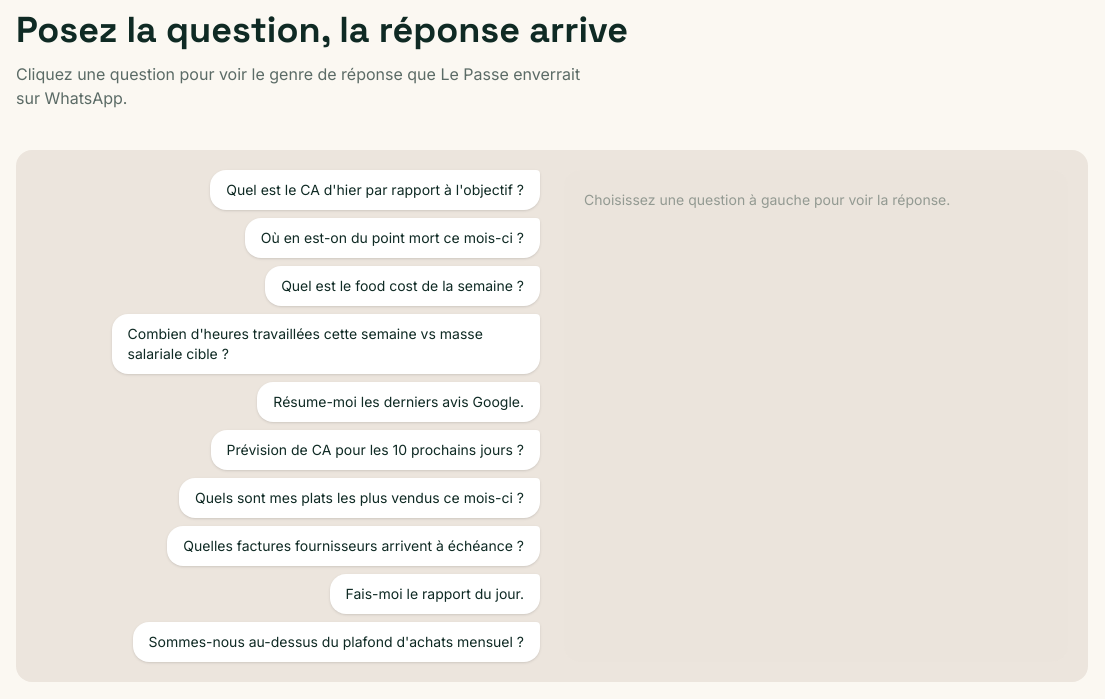
ChatExamples (T-4.4) › shows only one active answer at a time
What coordinates should you click on to do the following:
click the button "Quel est le CA d'hier par rapport à l'objectif ?"
I would click on:
 (375, 190)
Its box is [210, 170, 540, 210].
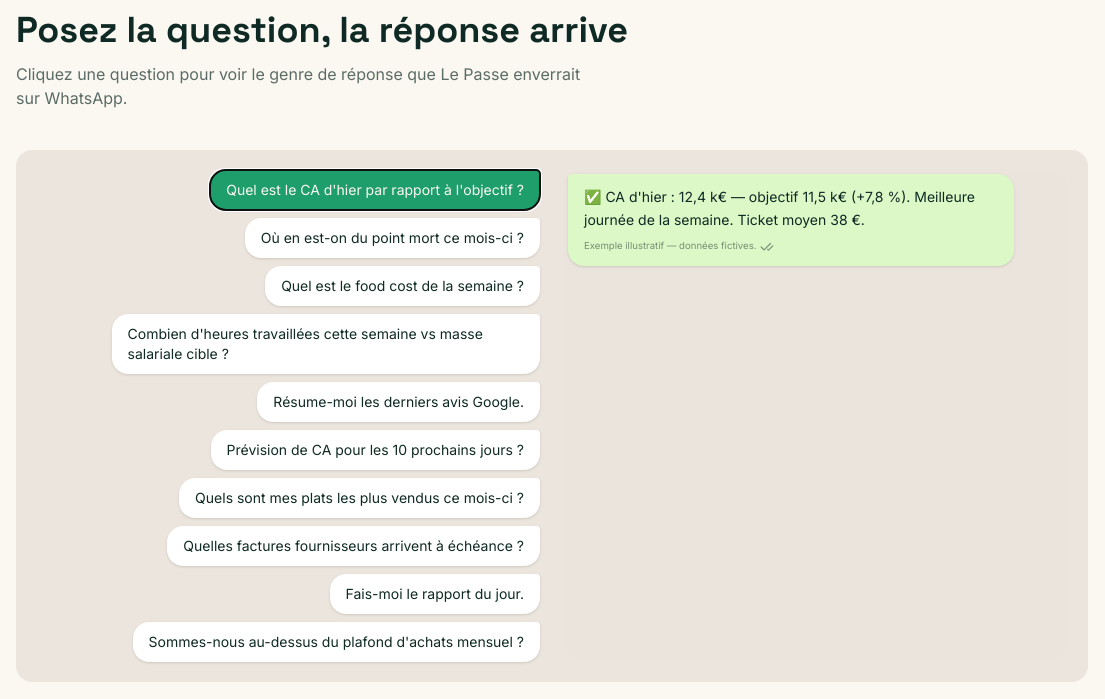
Expected: the text "✅ CA d'hier : 12,4 k€ — objectif 11,5 k€ (+7,8 %). Meilleure journée de la semaine. Ticket moyen 38 €." is shown, [584, 188, 975, 228]
What coordinates should you click on to do the following:
click the button "Où en est-on du point mort ce mois-ci ?"
I would click on:
 (392, 238)
Its box is [245, 218, 540, 258].
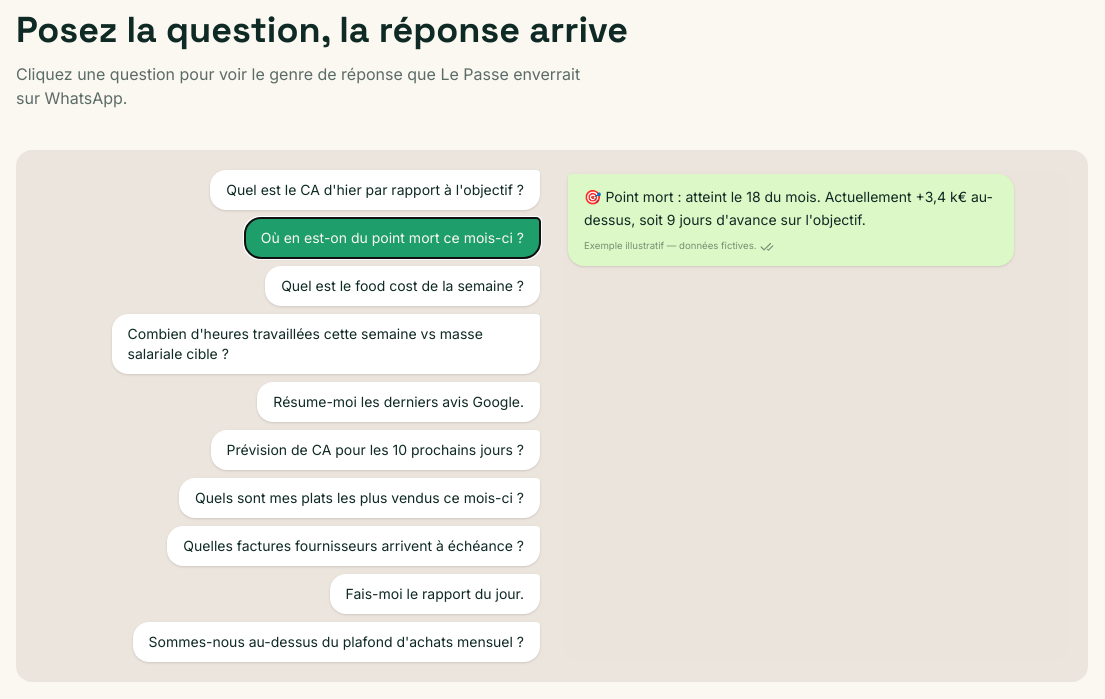
Expected: the text "✅ CA d'hier : 12,4 k€ — objectif 11,5 k€ (+7,8 %). Meilleure journée de la semaine. Ticket moyen 38 €." is gone
Expected: the text "🎯 Point mort : atteint le 18 du mois. Actuellement +3,4 k€ au-dessus, soit 9 jours d'avance sur l'objectif." is shown, [584, 188, 993, 228]
